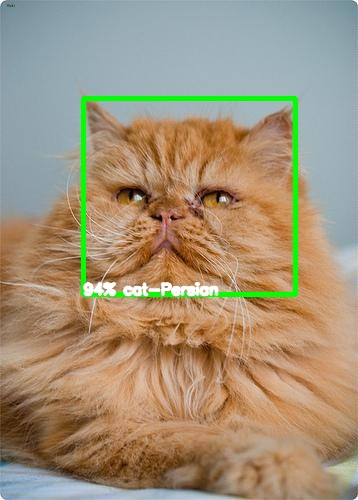cat-Persian: (84, 99, 295, 300)
